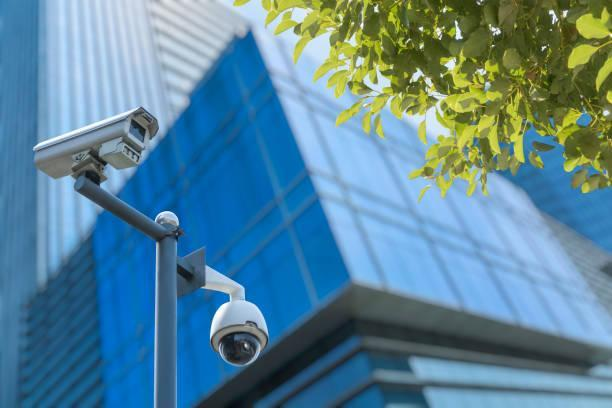camera: (11, 81, 195, 189), (186, 269, 298, 384)
